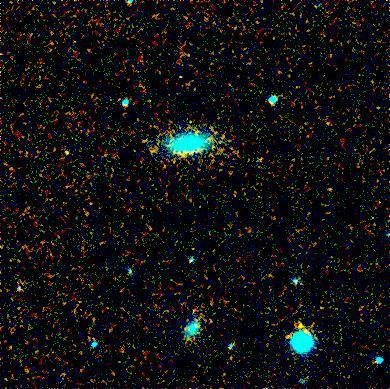star: (49, 138, 79, 168)
